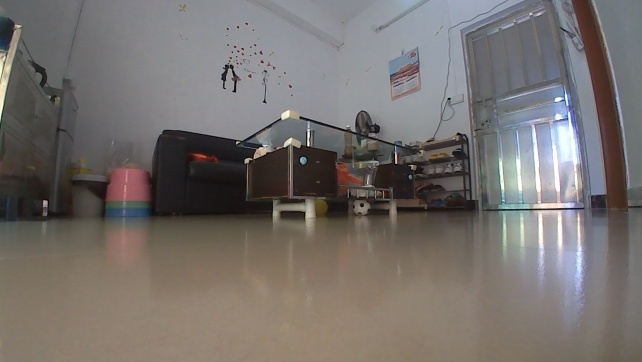door_anno: (463, 0, 590, 210)
refrigerator: (42, 85, 79, 216)
sofa: (150, 126, 280, 217)
tea_table: (233, 108, 425, 221)
wire: (430, 31, 454, 142), (448, 0, 508, 31)
